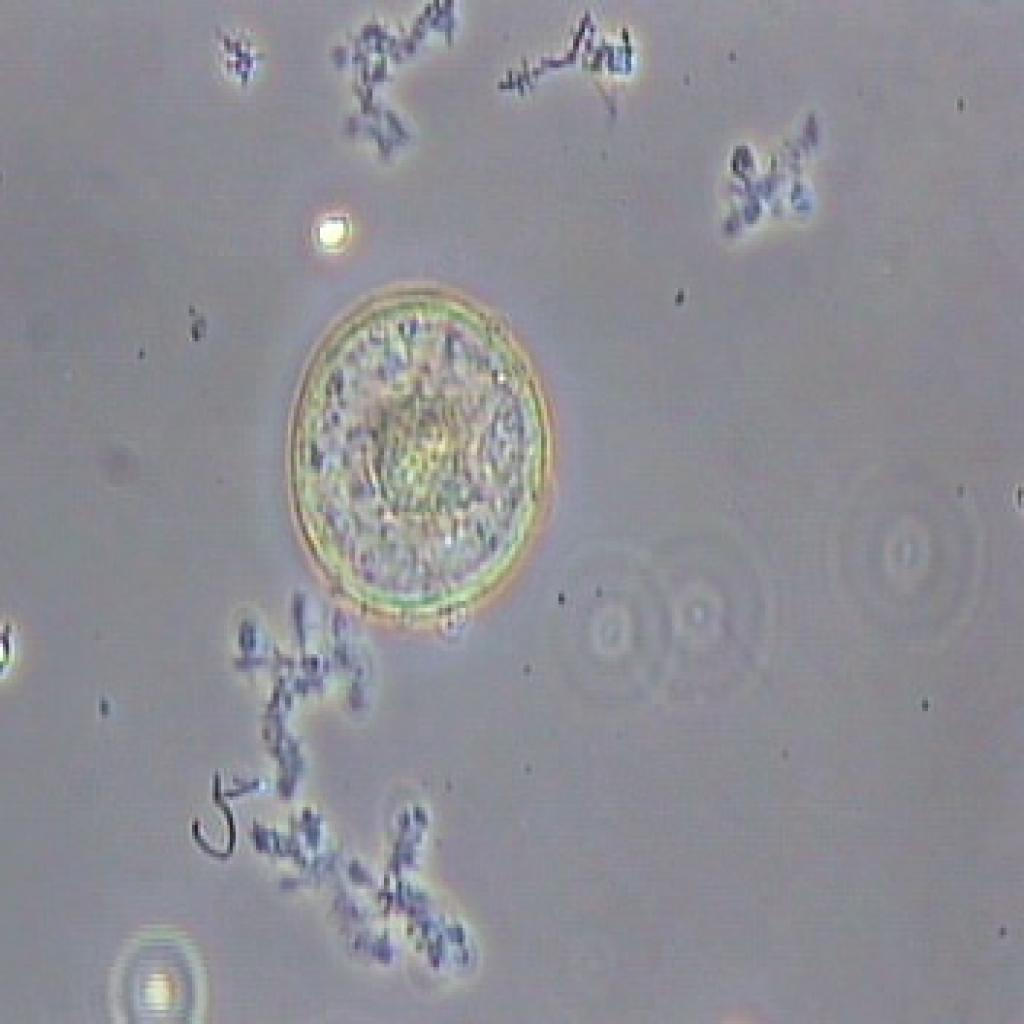Arcella: (264, 272, 584, 649)
